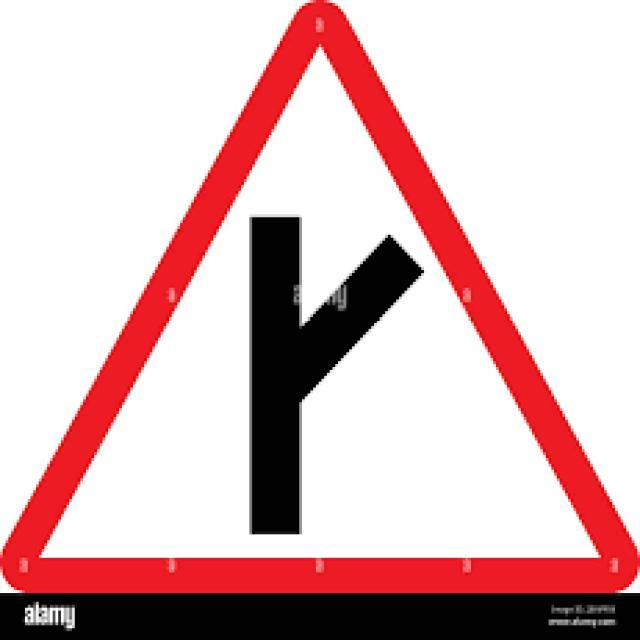y intersection: (28, 32, 614, 577)
